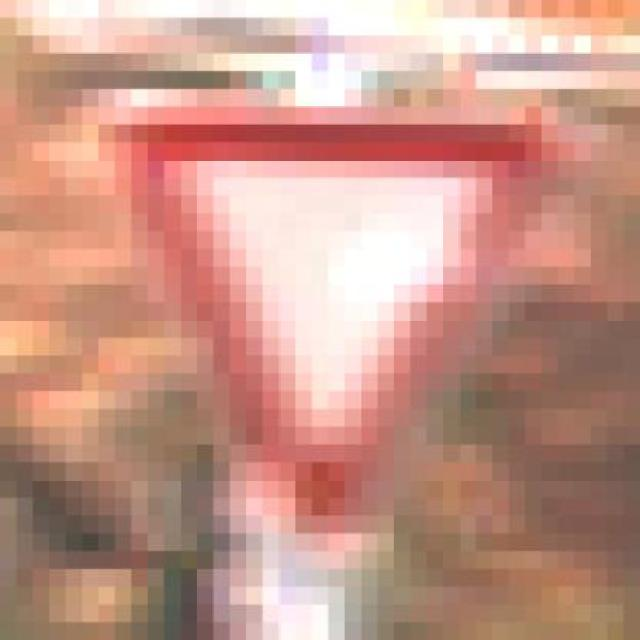Give Way: (82, 71, 590, 569)
